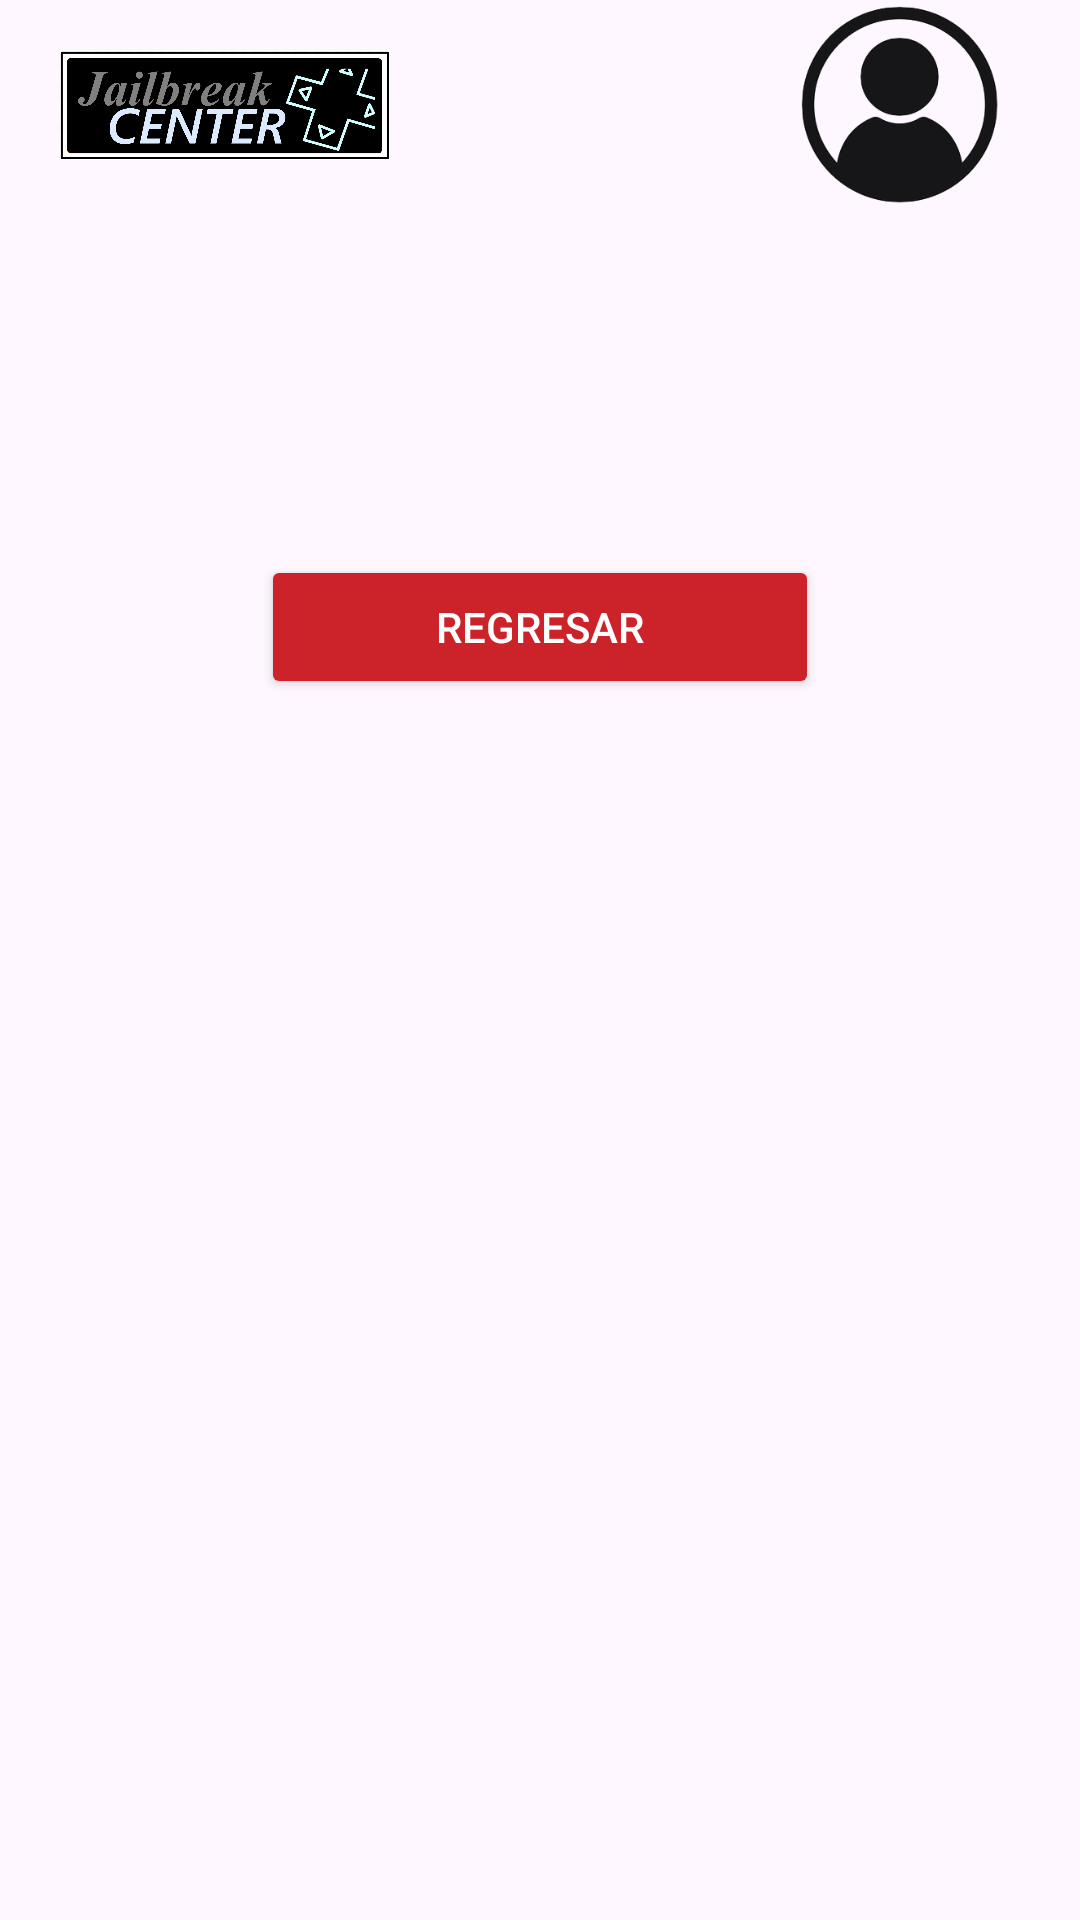

Screen size 1080px x 1920px. Icon name, then its center in pixels as [x,y]:
User login: [900,105]
